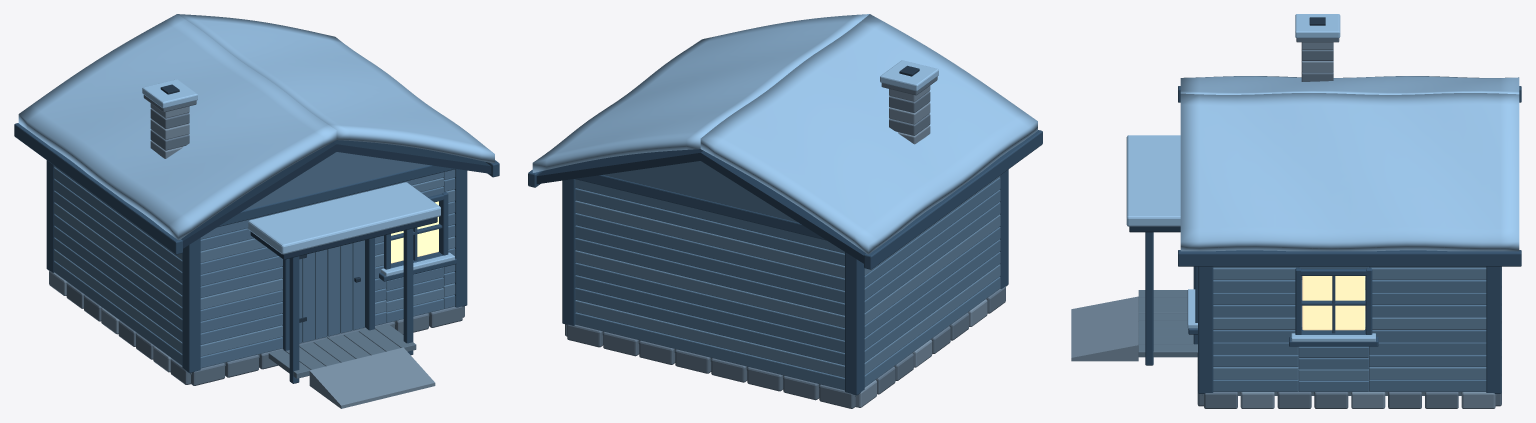
The model's file is forest_cabin.glb.
3 views of the same model, side by side, from view 1: azimuth 30°, elevation 25°; view 2: azimuth 150°, elevation 25°; view 3: azimuth 270°, elevation 25° (orthographic). The views are drawn at different scales.
Visible parts, largest first — view 1: Roof, Wall_Front, Wall_West, Porch, DoorLeaf, Foundation, Chimney, DoorFrame, Wall_Back; view 2: Roof, Wall_Back, Wall_West, Foundation, Chimney, Wall_Front; view 3: Roof, Wall_East, Porch, Foundation, Wall_Front, Chimney, Wall_Back.
Boxes of the visible parts, x1=… form: Roof: x1=14, y1=14, x2=499, y2=259; Wall_Front: x1=182, y1=152, x2=467, y2=373; Wall_West: x1=54, y1=165, x2=182, y2=365; Porch: x1=268, y1=228, x2=435, y2=408; DoorLeaf: x1=299, y1=240, x2=364, y2=343; Foundation: x1=49, y1=270, x2=464, y2=385; Chimney: x1=142, y1=79, x2=197, y2=158; DoorFrame: x1=282, y1=238, x2=374, y2=350; Wall_Back: x1=46, y1=160, x2=54, y2=272; Roof: x1=528, y1=14, x2=1042, y2=269; Wall_Back: x1=562, y1=161, x2=864, y2=395; Wall_West: x1=864, y1=175, x2=1000, y2=387; Foundation: x1=565, y1=286, x2=1005, y2=408; Chimney: x1=880, y1=60, x2=938, y2=144; Wall_Front: x1=1000, y1=169, x2=1008, y2=288; Roof: x1=1126, y1=76, x2=1521, y2=266; Wall_East: x1=1213, y1=266, x2=1486, y2=391; Porch: x1=1071, y1=232, x2=1197, y2=365; Foundation: x1=1197, y1=267, x2=1501, y2=408; Wall_Front: x1=1187, y1=266, x2=1213, y2=393; Chimney: x1=1295, y1=14, x2=1340, y2=81; Wall_Back: x1=1486, y1=266, x2=1501, y2=393.
Bounding box in the file's own units: 6.2 × 4.55 × 7.03.
